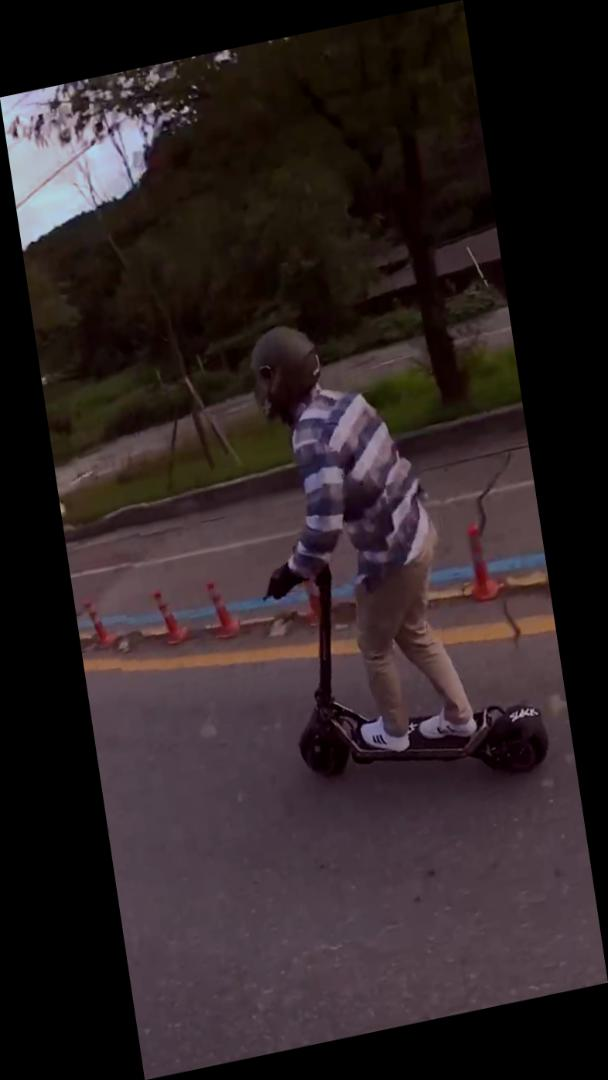helmet: (220, 281, 557, 826)
